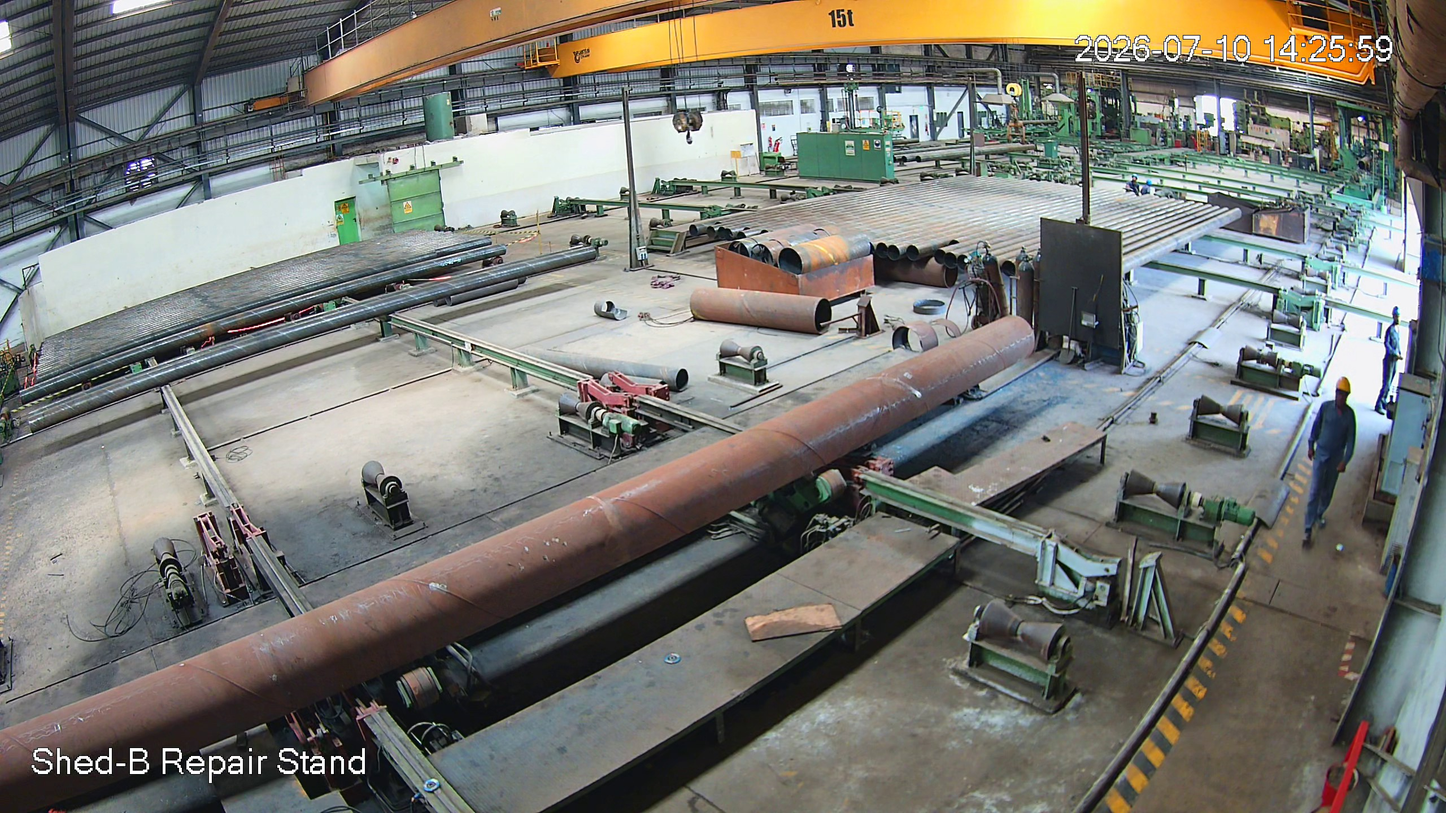Helmet: (1320, 371, 1364, 420)
Person: (1297, 374, 1366, 570)
